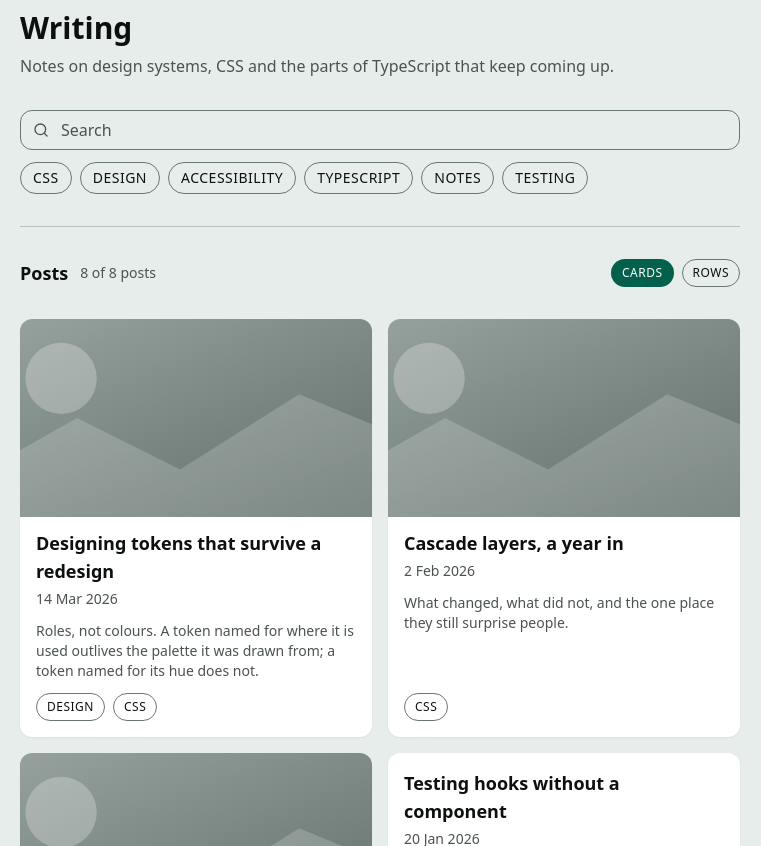
Test case: the kitchen sink › filtering to nothing offers the way out, and it works
Type "nothing matches this" into the search field at (380, 130), box [21, 111, 739, 149]
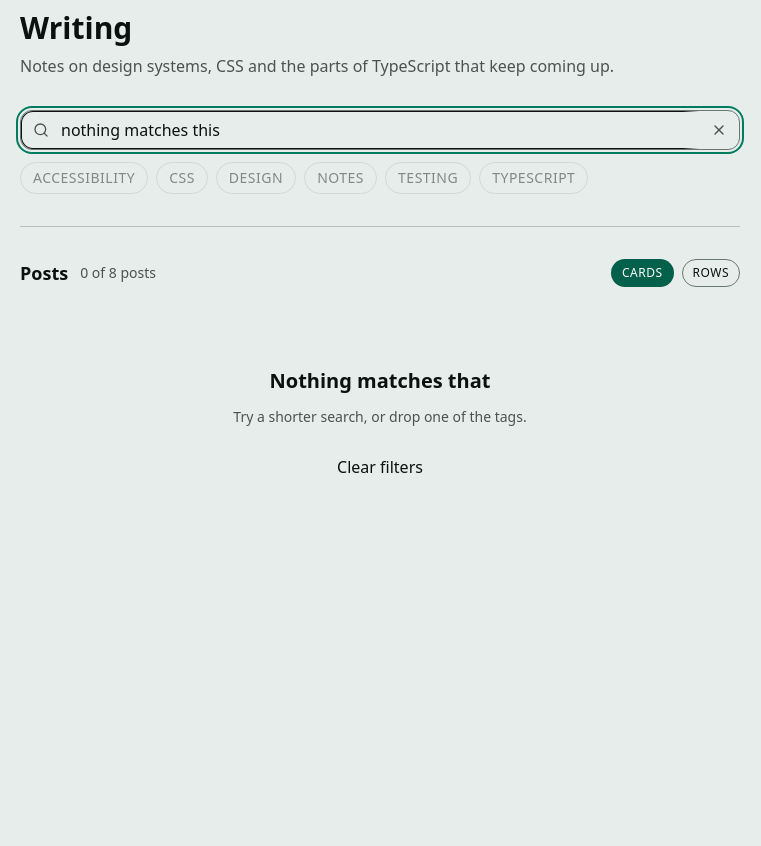
expect the heading "Nothing matches that" is shown: met, box [270, 367, 490, 395]
Click the button "Clear filters" at (380, 467), box [321, 447, 439, 487]
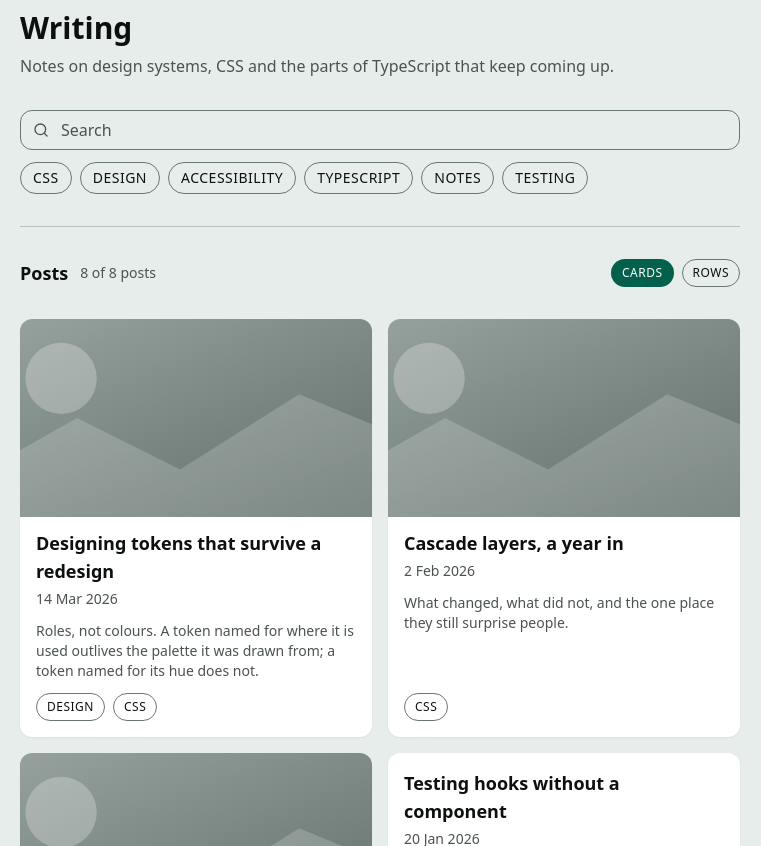
expect the search field is empty: met, box [21, 111, 739, 149]
expect the text "8 of 8 posts" is shown: met, box [80, 263, 156, 283]
